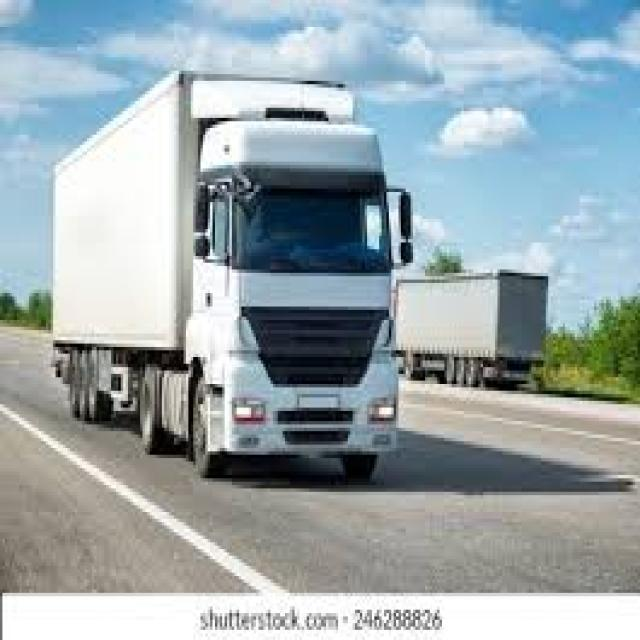covered: (48, 64, 413, 478)
